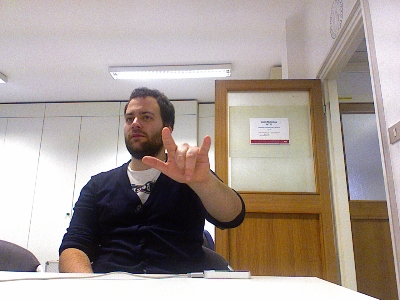我爱你: (141, 125, 212, 184)
